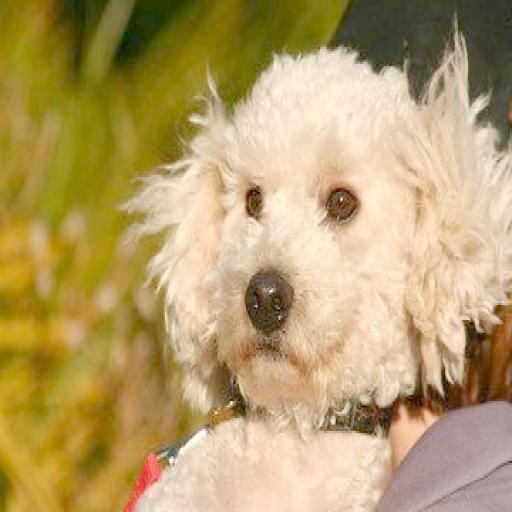dog_face: (149, 49, 494, 410)
